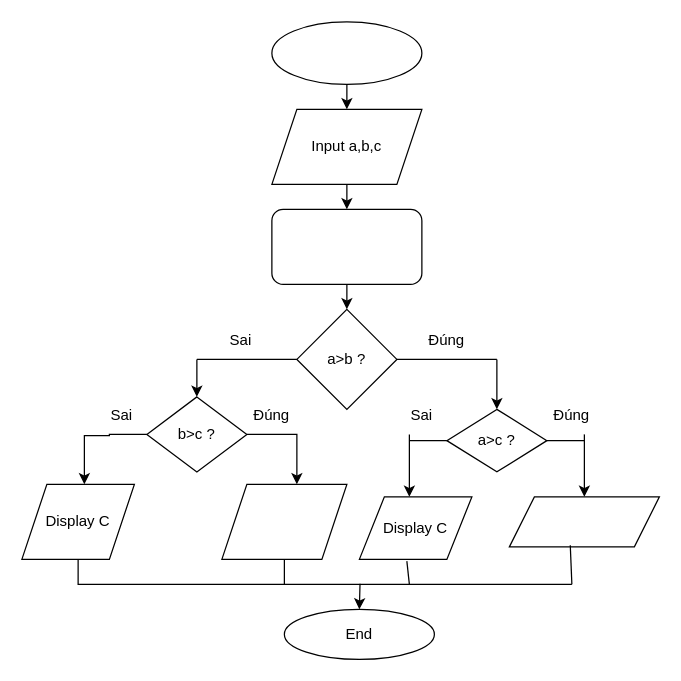
This 681x681 diagram has some shape labels left out. Each missing label, with the centre of its shape:
Begin: the point at 346,52
Display A: the point at 583,521
Display B: the point at 284,521
Max = a: the point at 346,246
